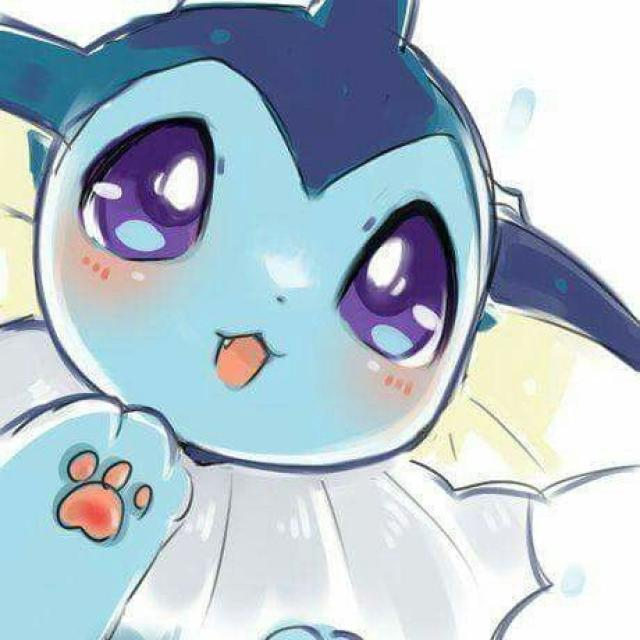Vaporeon: (0, 0, 590, 640)
